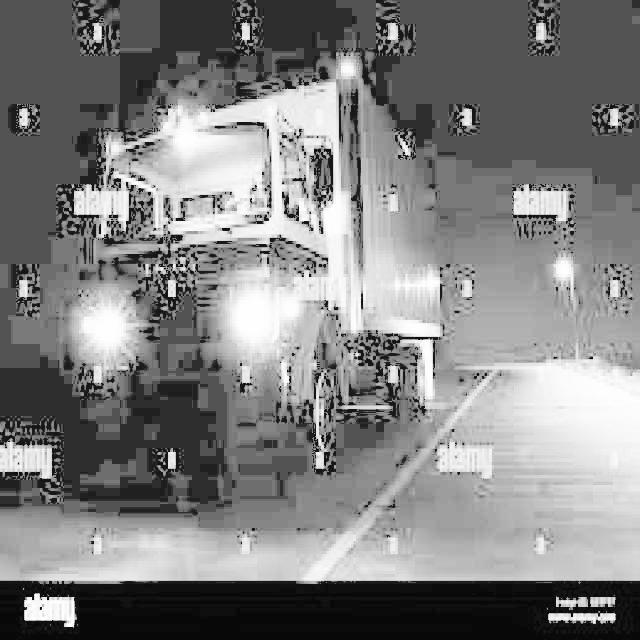Truck: (67, 53, 442, 472)
